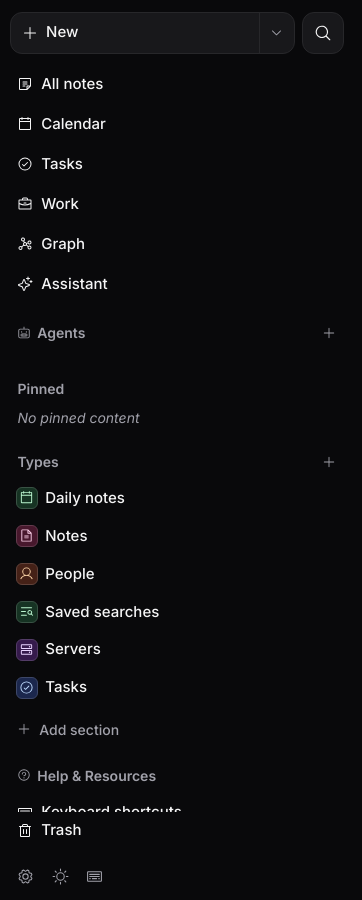
Test: Sidebar › test sidebar "+ New" enabled and type context menu items
Later steps or results of the test are not shown.
Click the button "New": (135, 33) [11, 13, 259, 53]
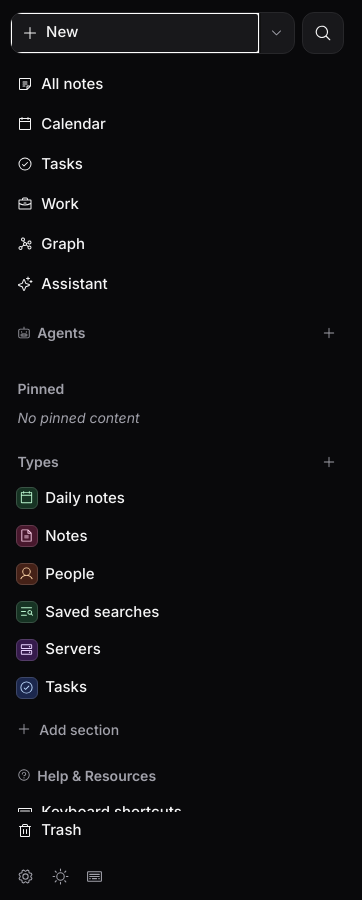
expect the button named "Search this space" is shown: met, box [302, 12, 344, 54]
Click the button named "New type": (329, 462) [317, 450, 341, 473]
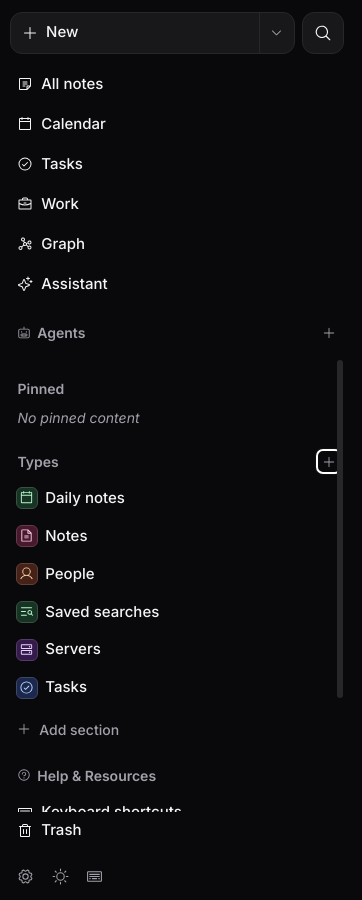
Click the button "Trash": (61, 830) [10, 812, 344, 850]
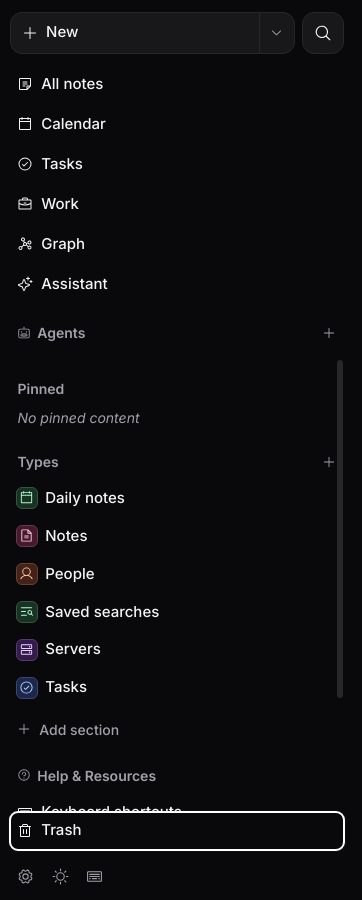
Right-click the button "Servers": (73, 649) [10, 632, 344, 668]
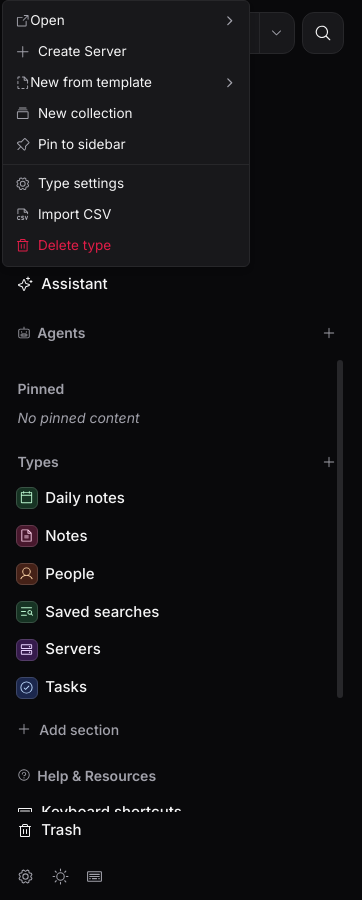
Click the menu item "Delete type": (63, 246) [15, 237, 111, 254]
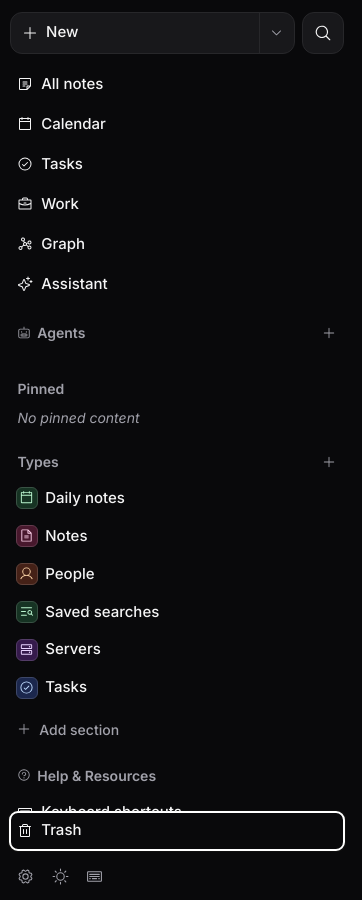
Note: A basic type: no delete.
Right-click the button "Notes": (66, 535) [10, 518, 344, 554]
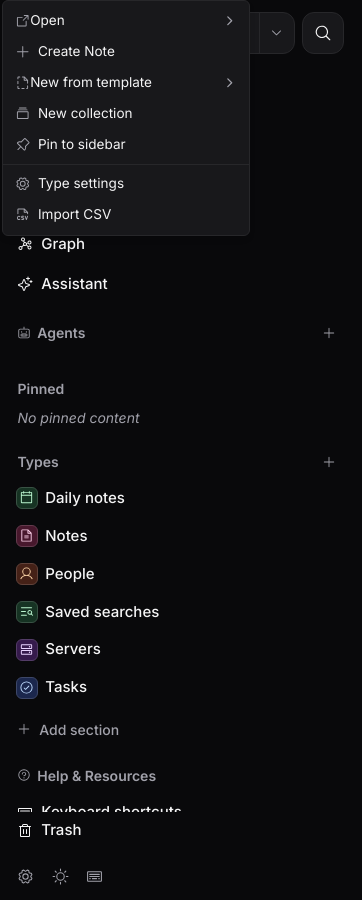
expect the menu item does not show "Delete type": met
